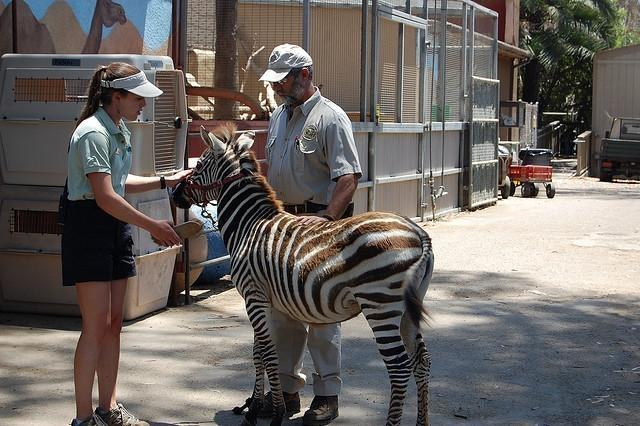truck: (599, 118, 640, 181)
